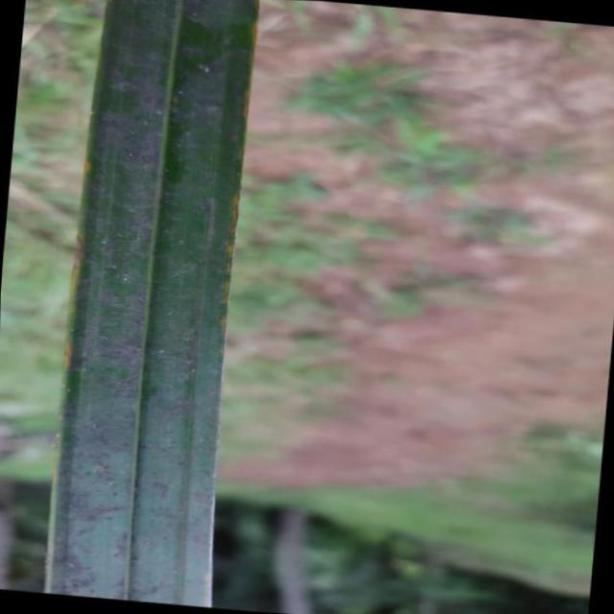Kalium: (43, 0, 261, 614)
